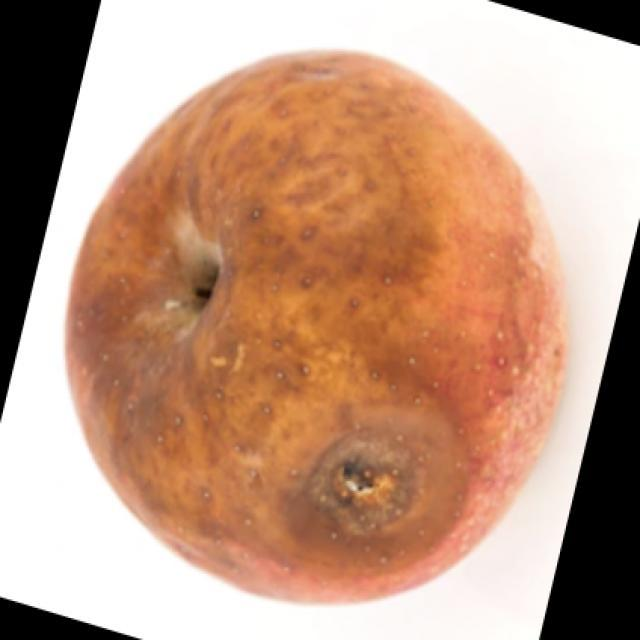Rotten: (70, 55, 570, 612)
